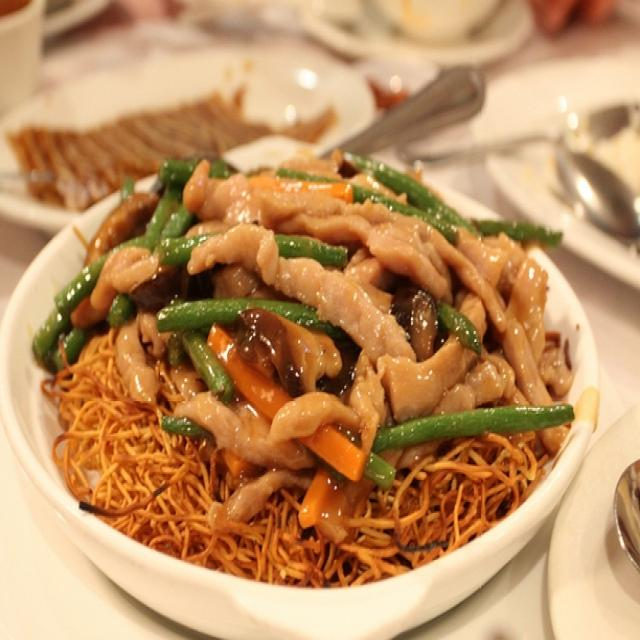面条主食: (8, 154, 604, 626)
